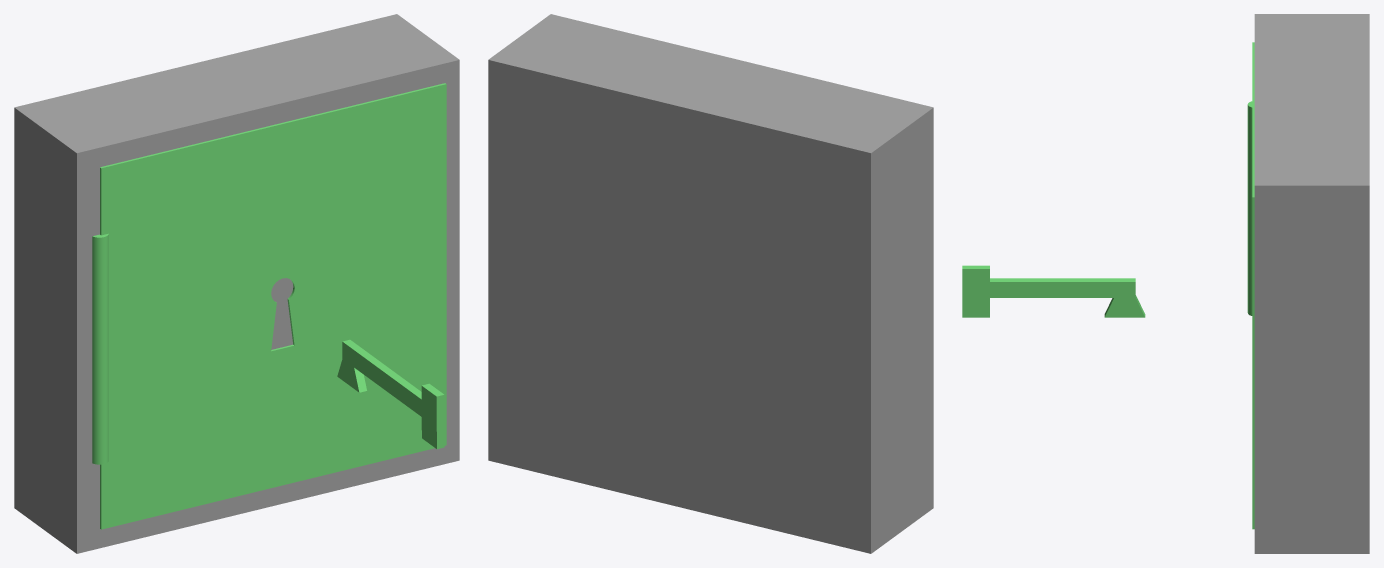
Rendered from obj_Box_with_keyhole.fbx.
The picture shows the model from 3 angles, left to right: view 1: azimuth 30°, elevation 25°; view 2: azimuth 150°, elevation 25°; view 3: azimuth 270°, elevation 25°; orthographic projection. The views are drawn at different scales.
Visible parts, largest first — view 1: Door, Box_with_keyhole, Key; view 2: Box_with_keyhole; view 3: Box_with_keyhole, Key, Door.
Boxes of the visible parts, x1,y1,x2,y2 form: Door: (92,83,446,529); Box_with_keyhole: (14,14,459,553); Key: (337,339,444,449); Box_with_keyhole: (488,14,933,553); Box_with_keyhole: (1254,14,1369,553); Key: (962,265,1145,317); Door: (1247,42,1254,529).
Bounding box in the file's own units: 3.53 × 3.53 × 3.54.
